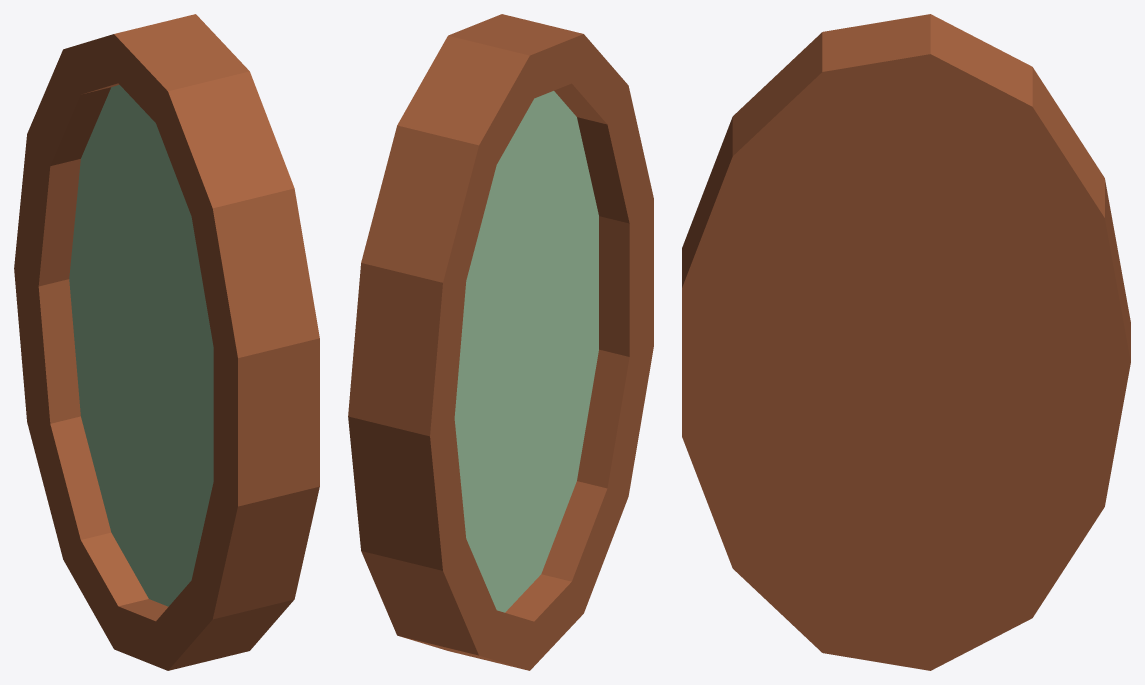
The model's file is painting2.fbx.
3 renders of one model, left to right at view 1: azimuth 30°, elevation 25°; view 2: azimuth 150°, elevation 25°; view 3: azimuth 270°, elevation 25°, orthographic.
Visible parts, largest first — view 1: painting2; view 2: painting2; view 3: painting2.
Boxes of the visible parts, x1=… form: painting2: x1=14, y1=14, x2=319, y2=670; painting2: x1=348, y1=14, x2=653, y2=670; painting2: x1=682, y1=14, x2=1130, y2=670.
Bounding box in the file's own units: 13 × 93.31 × 61.54.
